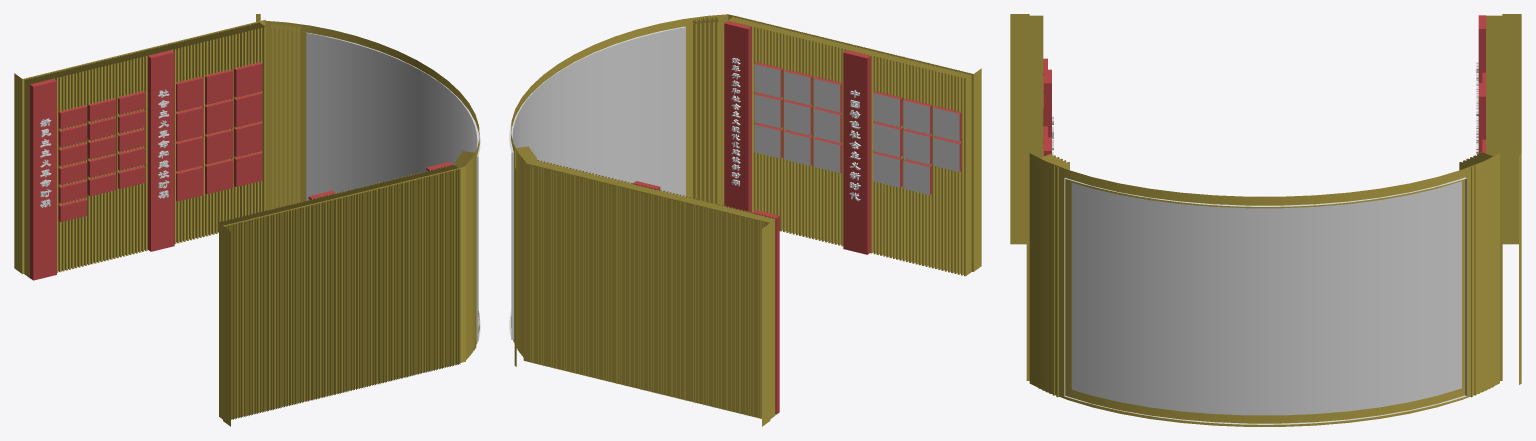
3 renders of one model, left to right at view 1: azimuth 30°, elevation 25°; view 2: azimuth 150°, elevation 25°; view 3: azimuth 270°, elevation 25°, orthographic. The views are drawn at different scales.
Visible parts, largest first — view 1: Default, cube, Screen, 社会主义革命和建设时期_1, 新民主主义革命时期_1; view 2: Default, Screen, cube, zi1, 改革开放和社会主义现代化建设新时期_1, 中国特色社会主义新时代_1; view 3: Screen, Default, cube.
Boxes of the visible parts, x1,y1,x2,y2 form: Default: [14, 14, 479, 426]; cube: [30, 50, 452, 280]; Screen: [306, 32, 480, 341]; 社会主义革命和建设时期_1: [158, 89, 169, 198]; 新民主主义革命时期_1: [40, 118, 51, 207]; Default: [511, 14, 981, 426]; Screen: [509, 26, 685, 339]; cube: [633, 21, 961, 414]; zi1: [754, 64, 959, 194]; 改革开放和社会主义现代化建设新时期_1: [731, 57, 740, 186]; 中国特色社会主义新时代_1: [849, 90, 860, 201]; Screen: [1064, 177, 1466, 424]; Default: [1010, 14, 1521, 426]; cube: [1043, 15, 1486, 156].
Bounding box in the file's own units: 1795 × 1050 × 2107.
